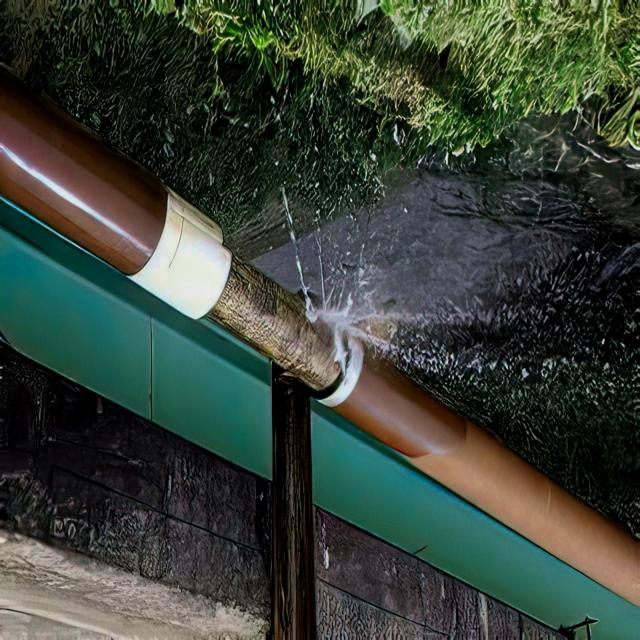Leak: (289, 264, 357, 342)
